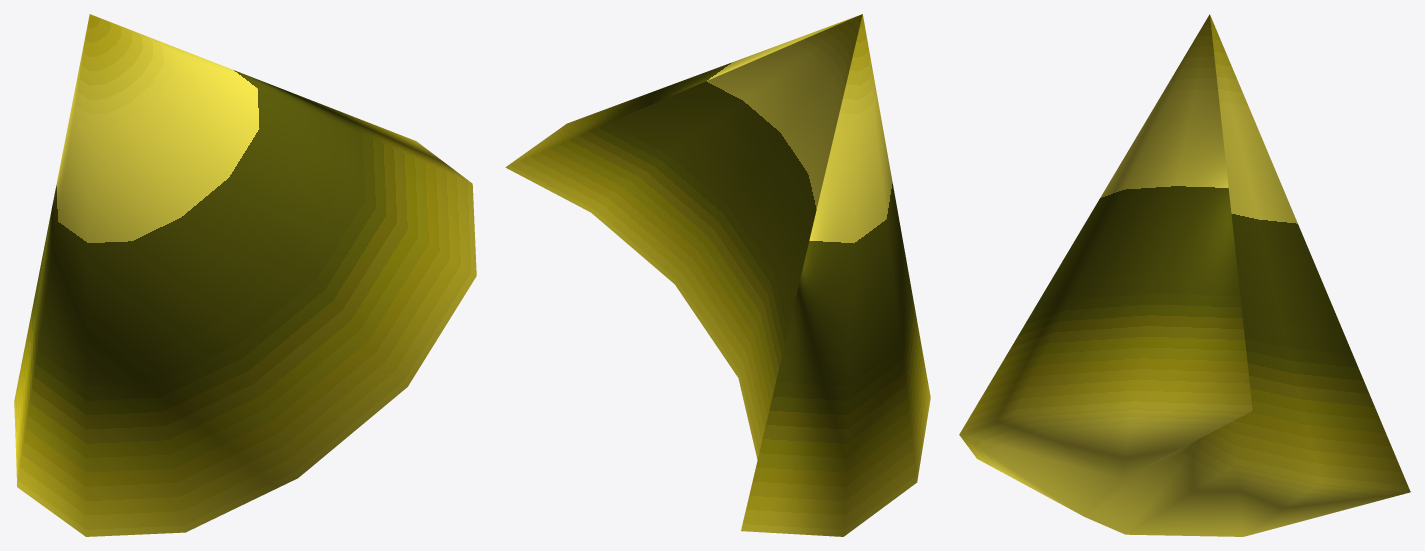
The model's file is cap_hairpin_moon.dae.
3 views of the same model, side by side, from view 1: azimuth 30°, elevation 25°; view 2: azimuth 150°, elevation 25°; view 3: azimuth 270°, elevation 25° (orthographic). The views are drawn at different scales.
Parts seen in each view (by area): view 1: cap_hairpin_moon; view 2: cap_hairpin_moon; view 3: cap_hairpin_moon.
Boxes of the visible parts, box(x1,y1,x2,y2) form: cap_hairpin_moon: box(14, 14, 476, 536); cap_hairpin_moon: box(505, 14, 930, 536); cap_hairpin_moon: box(959, 14, 1410, 536).
Size of the model in its own units: 5.33 by 6.82 by 5.53.
Materials: 1 (1 with a texture image).
